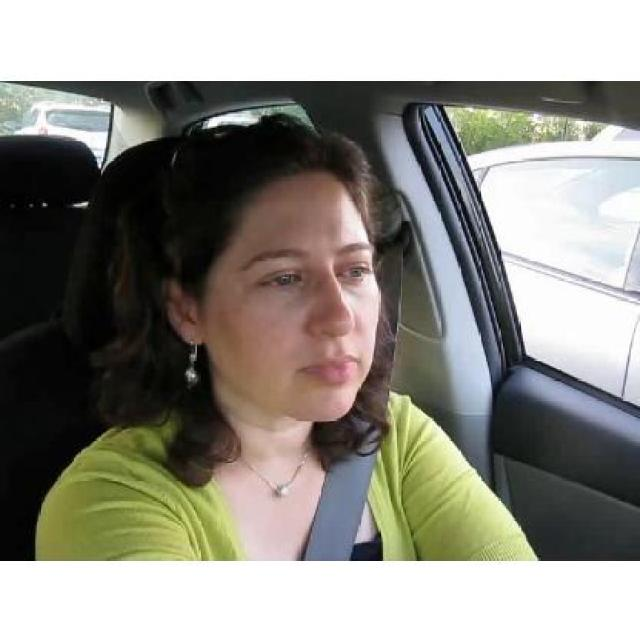attentif: (162, 117, 380, 421)
